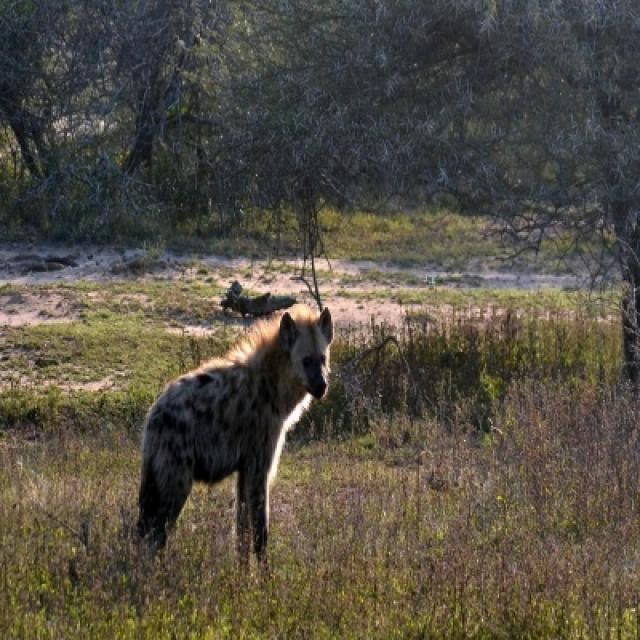hyena: (136, 302, 333, 570)
